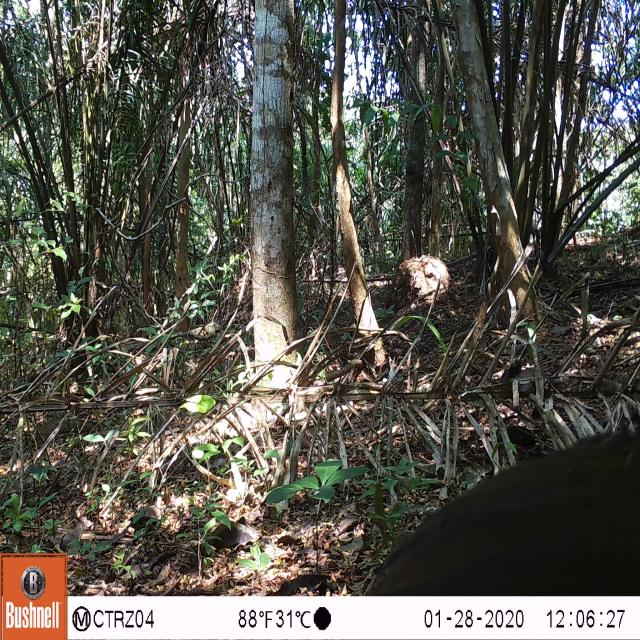Spixs Guan: (370, 432, 640, 594)
